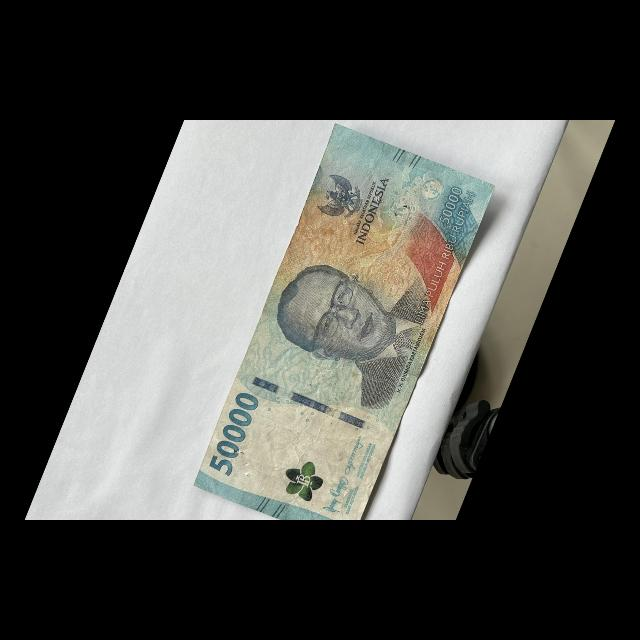Palsu-50k: (187, 118, 498, 551)
Tinta-Palsu-50k: (277, 453, 330, 506)
